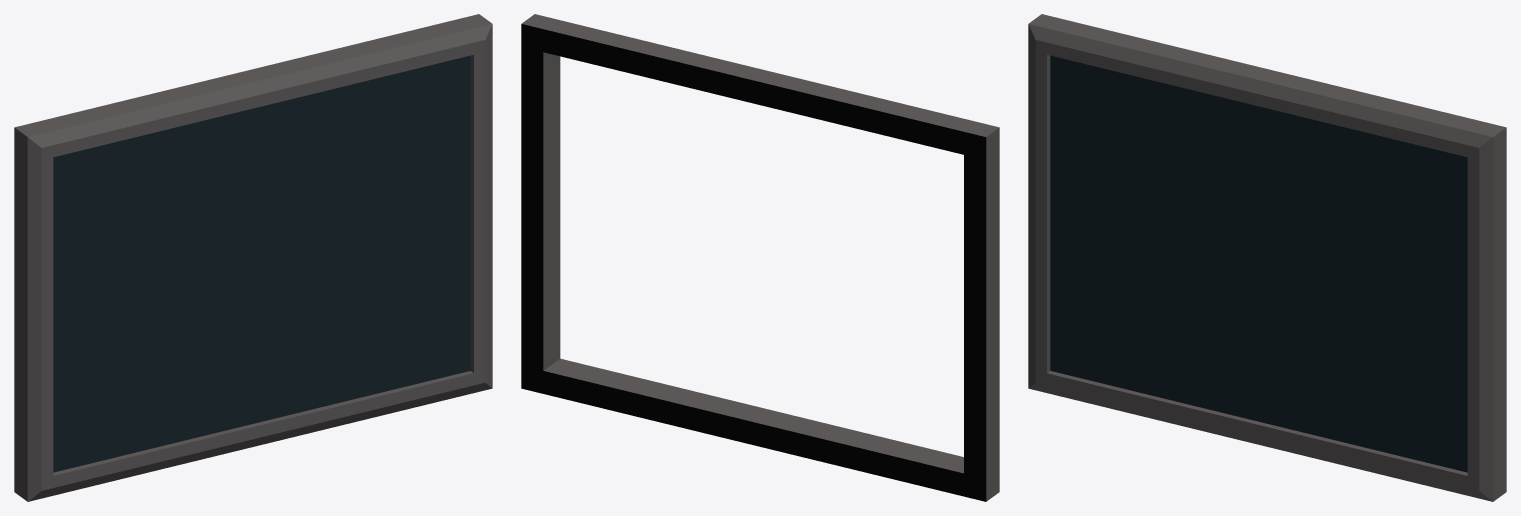
File: scifi-window-big.glb
3 views of the same model, side by side, from view 1: azimuth 30°, elevation 25°; view 2: azimuth 150°, elevation 25°; view 3: azimuth 330°, elevation 25° (orthographic).
Parts seen in each view (by area): view 1: scifi-window-big; view 2: scifi-window-big; view 3: scifi-window-big.
Boxes of the visible parts, x1,y1,x2,y2 form: scifi-window-big: (14,14,492,501); scifi-window-big: (521,14,999,501); scifi-window-big: (1028,14,1506,501).
Size of the model in its own units: 4 by 3 by 0.25.
1 material, 1 textured.
